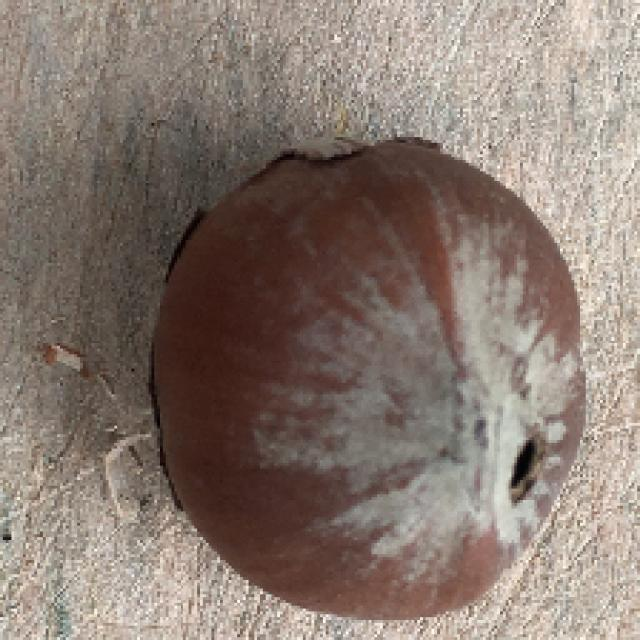damagedHazelnut: (145, 139, 591, 622)
